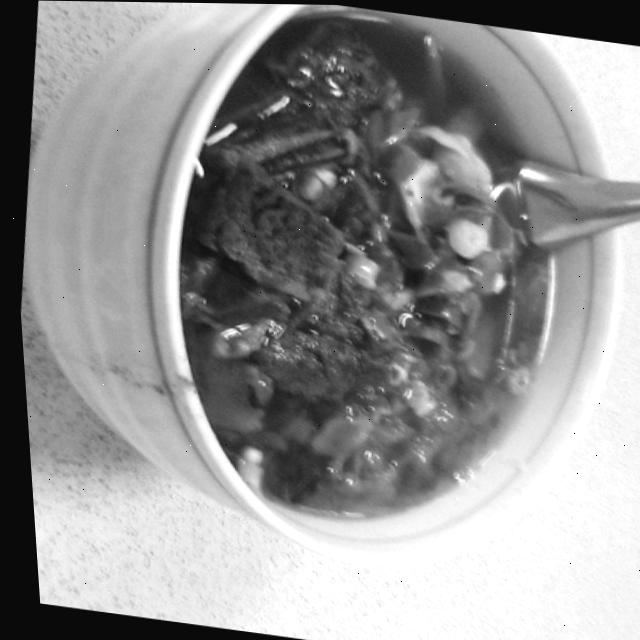面条主食: (22, 0, 640, 621)
